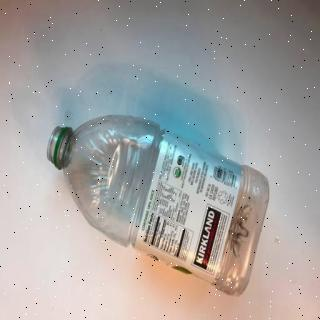Plastic-bottle: (46, 112, 273, 302)
